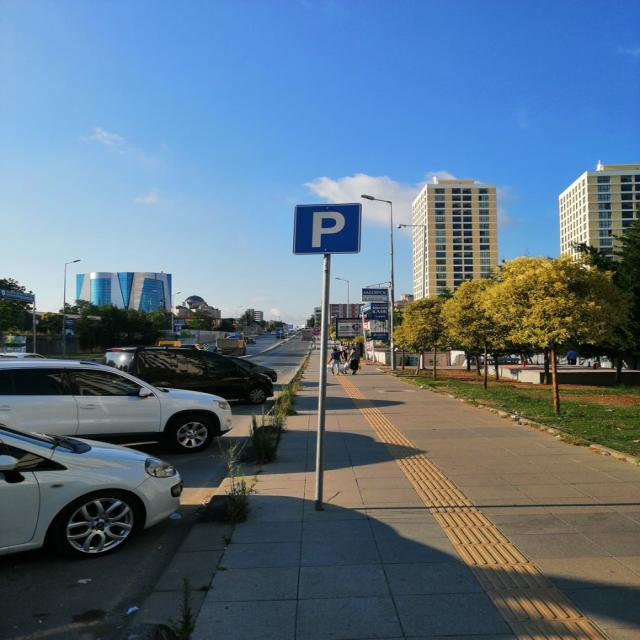park: (291, 202, 363, 255)
